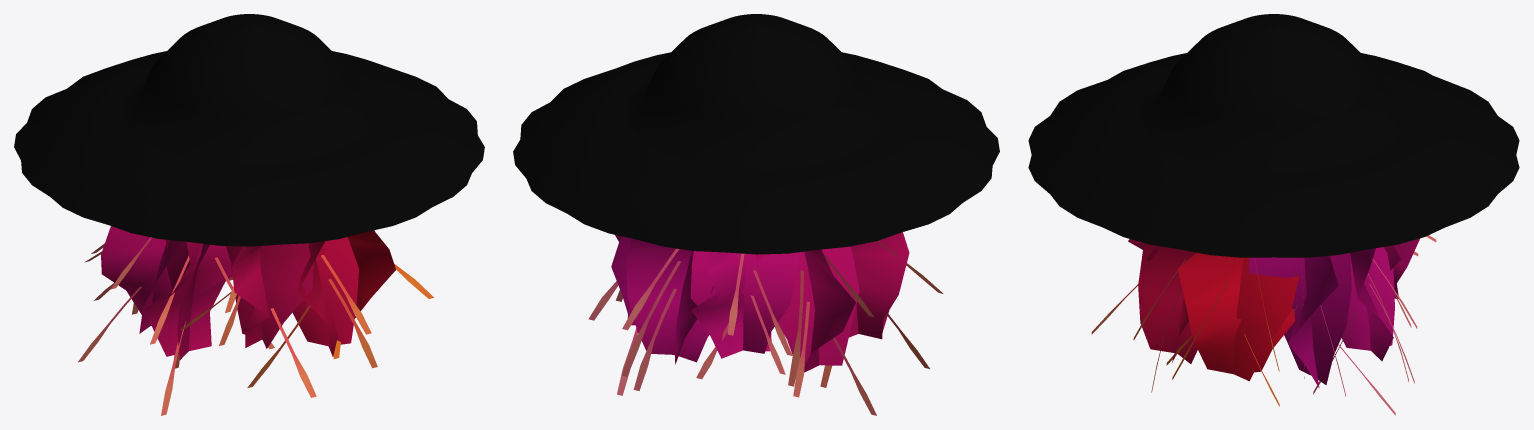
Rendered from fried_egg_jelly_game.glb.
3 renders of one model, left to right at view 1: azimuth 30°, elevation 25°; view 2: azimuth 150°, elevation 25°; view 3: azimuth 270°, elevation 25°, orthographic. The views are drawn at different scales.
Visible parts, largest first — view 1: fried_egg_jelly_game; view 2: fried_egg_jelly_game; view 3: fried_egg_jelly_game.
Boxes of the visible parts, left/top/right/bottom form: fried_egg_jelly_game: left=14, top=14, right=484, bottom=415; fried_egg_jelly_game: left=513, top=14, right=999, bottom=415; fried_egg_jelly_game: left=1028, top=14, right=1519, bottom=415.
Size of the model in its own units: 0.3982 by 0.3147 by 0.3982.
